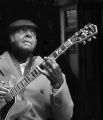male: (11, 20, 38, 58)
